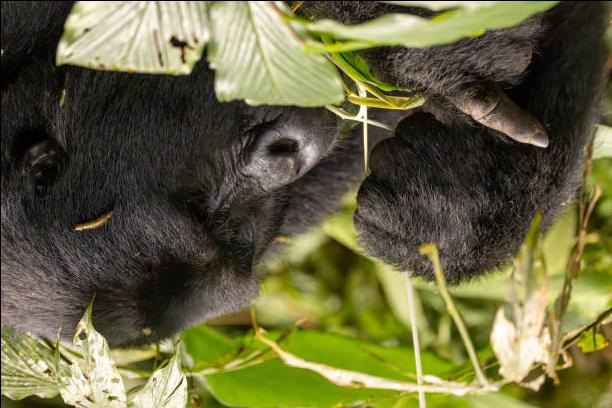goriile_montagne: (8, 0, 574, 333)
